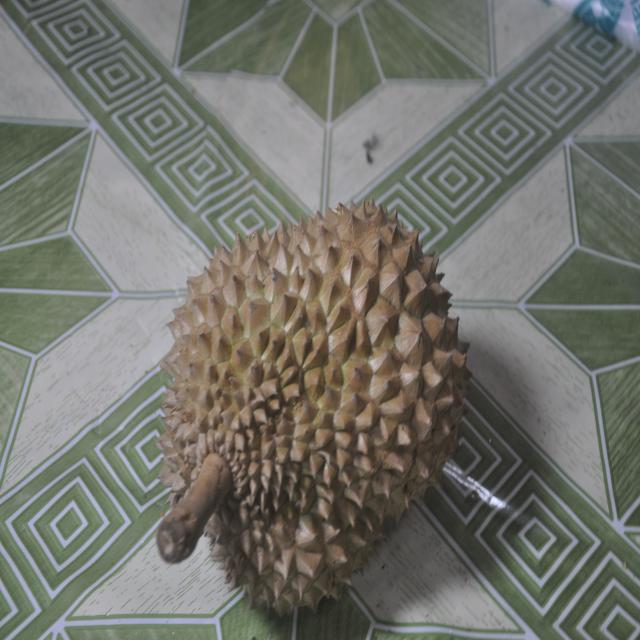mature: (158, 200, 470, 614)
